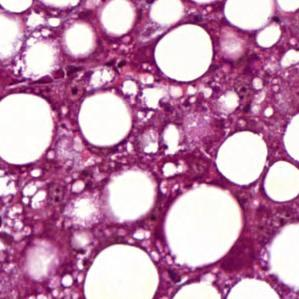steatosis: (77, 92, 138, 150), (152, 24, 216, 78), (210, 132, 270, 185)
